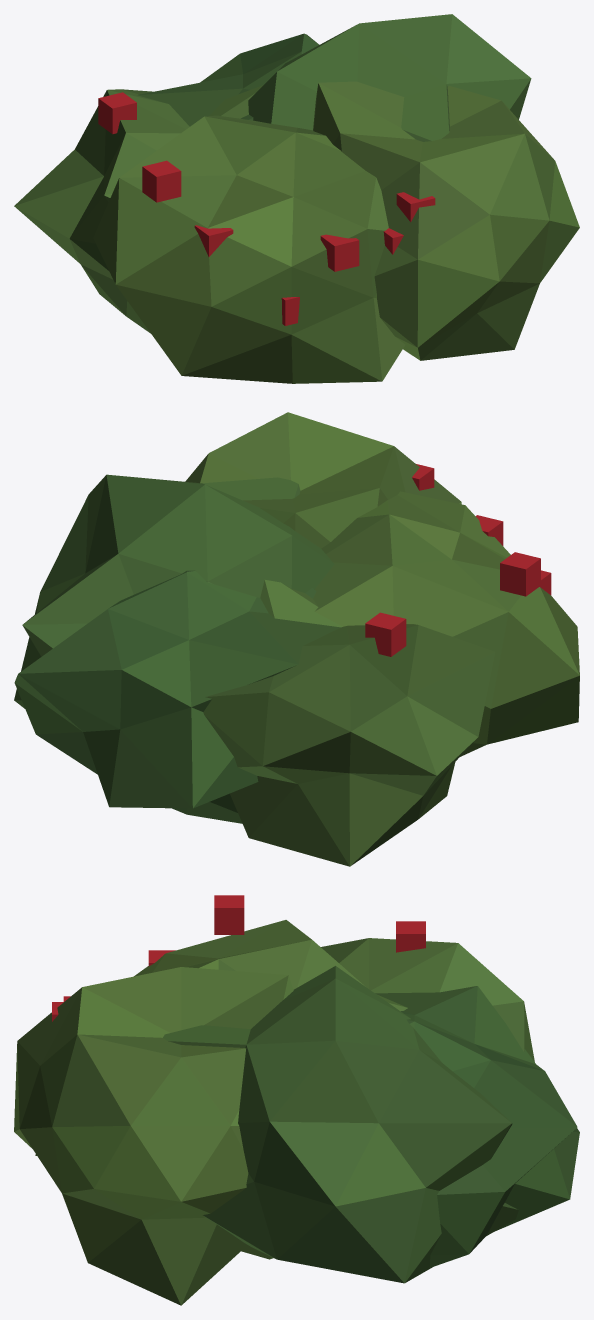
File: Bush.glb
The picture shows the model from 3 angles, top to bottom: view 1: azimuth 30°, elevation 25°; view 2: azimuth 150°, elevation 25°; view 3: azimuth 270°, elevation 25°; orthographic projection. The views are drawn at different scales.
Parts seen in each view (by area): view 1: Mat_Leaves_537537, Mat_Leaves_496932, Mat_Leaves_3e5e2e, Mat_Cloth_b02028; view 2: Mat_Leaves_3e5e2e, Mat_Leaves_496932, Mat_Leaves_537537, Mat_Cloth_b02028; view 3: Mat_Leaves_3e5e2e, Mat_Leaves_537537, Mat_Leaves_496932, Mat_Cloth_b02028.
Boxes of the visible parts, x1,y1,x2,y2 form: Mat_Leaves_537537: (14, 83, 579, 383); Mat_Leaves_496932: (14, 14, 579, 383); Mat_Leaves_3e5e2e: (14, 14, 530, 315); Mat_Cloth_b02028: (98, 92, 435, 325); Mat_Leaves_3e5e2e: (14, 474, 495, 865); Mat_Leaves_496932: (14, 412, 579, 866); Mat_Leaves_537537: (200, 412, 579, 866); Mat_Cloth_b02028: (365, 464, 551, 656); Mat_Leaves_3e5e2e: (168, 978, 579, 1283); Mat_Leaves_537537: (14, 920, 534, 1305); Mat_Leaves_496932: (17, 938, 569, 1305); Mat_Cloth_b02028: (52, 895, 425, 1021).
Bounding box in the file's own units: 4.07 × 2.39 × 4.15.
Materials: 1 (1 with a texture image).
